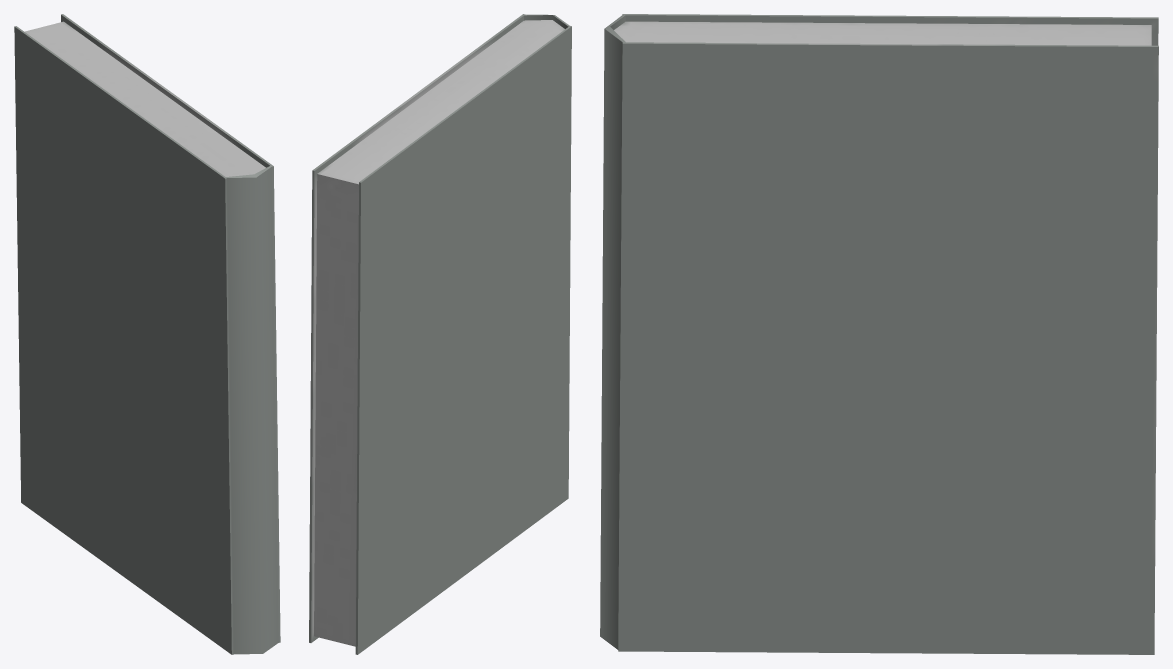
Rendered from BookWhite.fbx.
3 renders of one model, left to right at view 1: azimuth 30°, elevation 25°; view 2: azimuth 150°, elevation 25°; view 3: azimuth 270°, elevation 25°, orthographic. The views are drawn at different scales.
Visible parts, largest first — view 1: BookWhiteOBJ; view 2: BookWhiteOBJ; view 3: BookWhiteOBJ.
Boxes of the visible parts, x1,y1,x2,y2 form: BookWhiteOBJ: (14,14,280,654); BookWhiteOBJ: (309,14,571,654); BookWhiteOBJ: (600,14,1158,654).
Size of the model in its own units: 4.5 by 38.09 by 31.6.
1 material, 1 textured.
